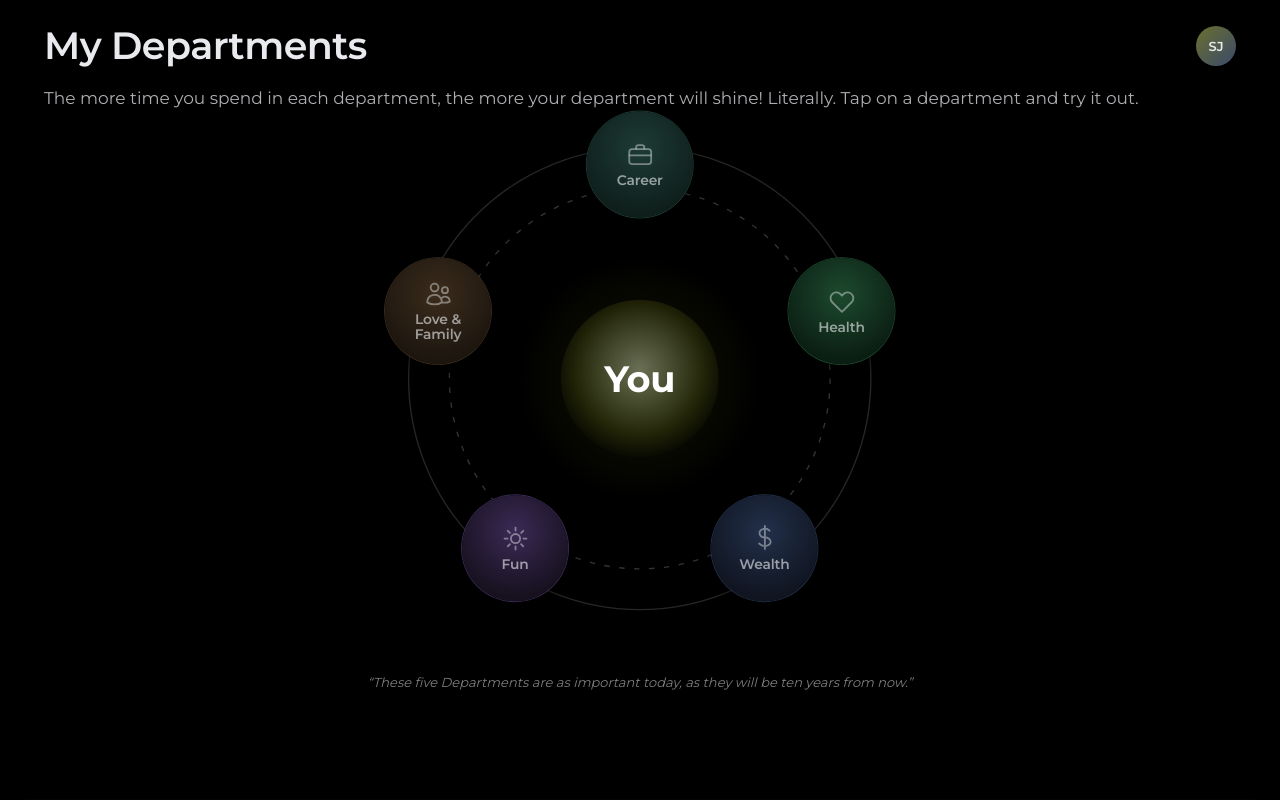
Scenario: OrbitStage › opens the Note to self sheet when the You hub is tapped
Click the button "You" at (640, 378), box top-left (561, 299), bottom-right (719, 457)
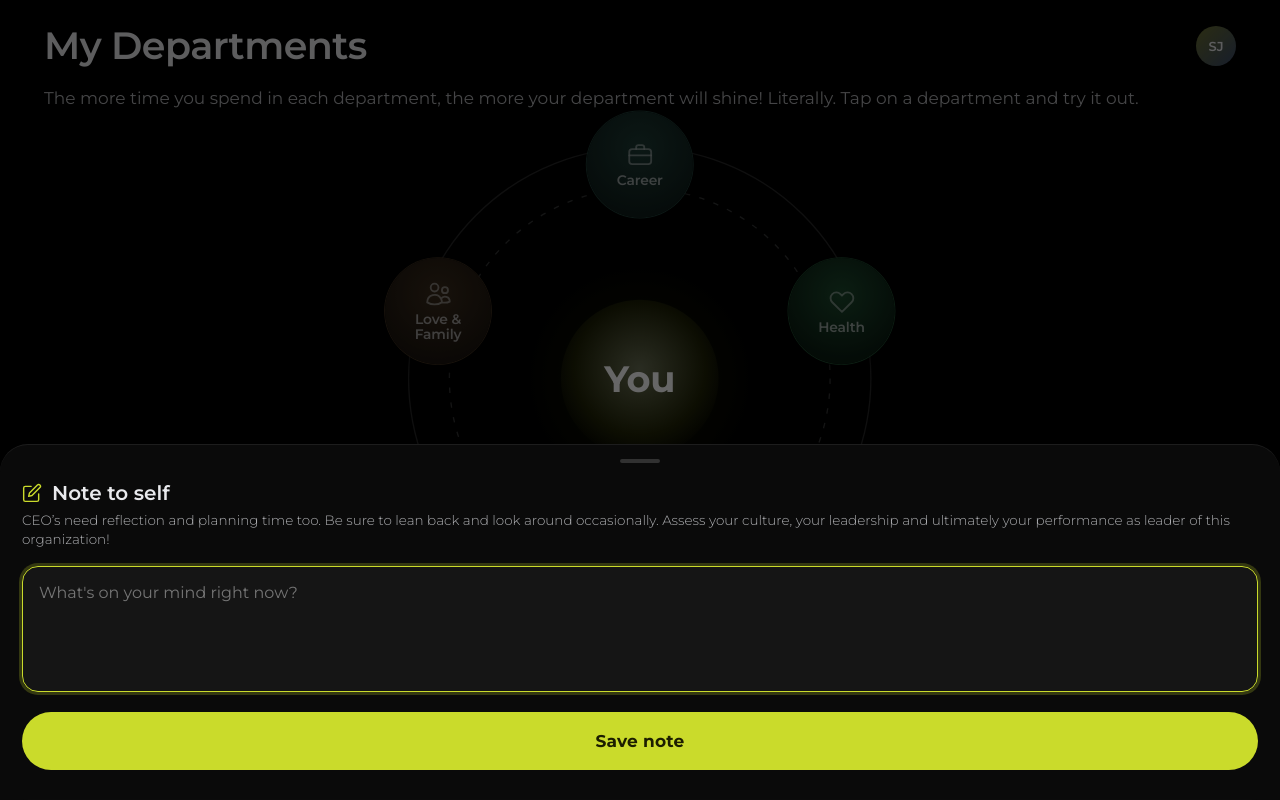
Expected: the heading "Note to self" is shown, top-left (52, 481), bottom-right (170, 505)
